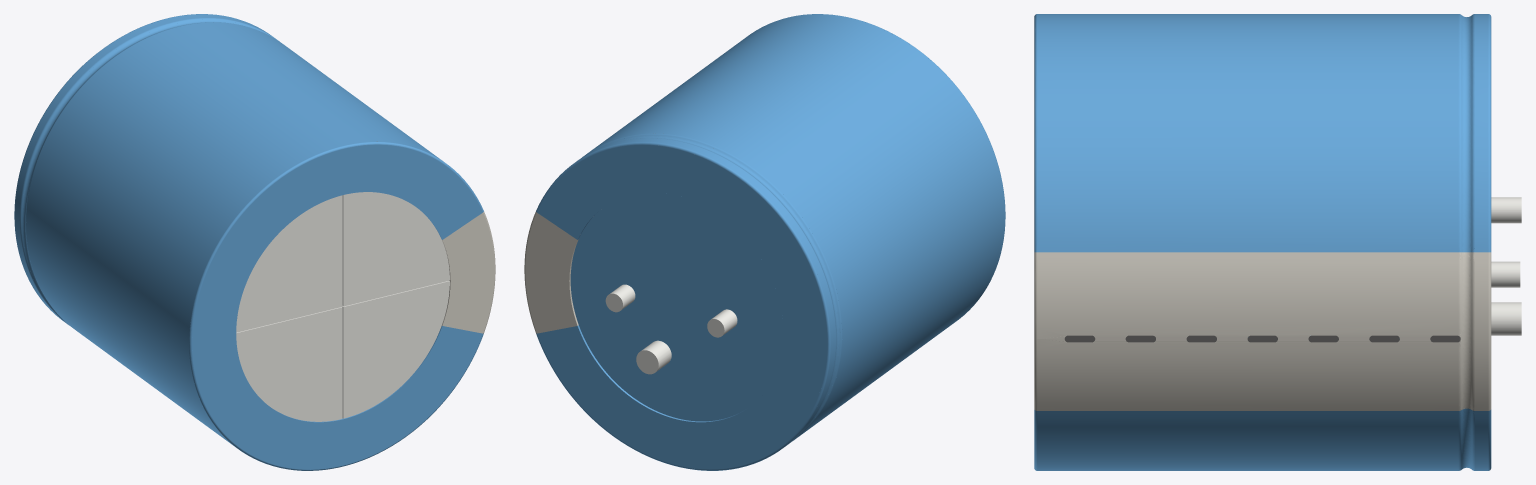
The model's file is CP_Radial_D30.0mm_P10.00mm_3pin_SnapIn.glb.
3 renders of one model, left to right at view 1: azimuth 30°, elevation 25°; view 2: azimuth 150°, elevation 25°; view 3: azimuth 270°, elevation 25°, orthographic. The views are drawn at different scales.
Parts seen in each view (by area): view 1: Shape_IndexedFaceSet.017, Shape_IndexedFaceSet.034, Shape_IndexedFaceSet.044, Shape_IndexedFaceSet.041, Shape_IndexedFaceSet.037, Shape_IndexedFaceSet.047, Shape_IndexedFaceSet.030, Shape_IndexedFaceSet.029, Shape_IndexedFaceSet.001, Shape_IndexedFaceSet.008, Shape_IndexedFaceSet.004; view 2: Shape_IndexedFaceSet.017, Shape_IndexedFaceSet.016, Shape_IndexedFaceSet.009, Shape_IndexedFaceSet.007, Shape_IndexedFaceSet.005, Shape_IndexedFaceSet.001, Shape_IndexedFaceSet.008, Shape_IndexedFaceSet.012; view 3: Shape_IndexedFaceSet.017, Shape_IndexedFaceSet.014, Shape_IndexedFaceSet.001, Shape_IndexedFaceSet.008, Shape_IndexedFaceSet, Shape_IndexedFaceSet.006, Shape_IndexedFaceSet.012, Shape_IndexedFaceSet.029, Shape_IndexedFaceSet.005, Shape_IndexedFaceSet.026, Shape_IndexedFaceSet.004, Shape_IndexedFaceSet.028 (+4 smaller).
Part boxes in pixels (left/top/right/bottom): Shape_IndexedFaceSet.017: left=26, top=22, right=442, bottom=444; Shape_IndexedFaceSet.034: left=192, top=145, right=482, bottom=469; Shape_IndexedFaceSet.044: left=236, top=307, right=342, bottom=421; Shape_IndexedFaceSet.041: left=343, top=281, right=449, bottom=418; Shape_IndexedFaceSet.037: left=343, top=192, right=449, bottom=305; Shape_IndexedFaceSet.047: left=236, top=195, right=342, bottom=331; Shape_IndexedFaceSet.030: left=442, top=213, right=494, bottom=333; Shape_IndexedFaceSet.029: left=189, top=142, right=483, bottom=470; Shape_IndexedFaceSet.001: left=14, top=14, right=272, bottom=321; Shape_IndexedFaceSet.008: left=22, top=19, right=261, bottom=312; Shape_IndexedFaceSet.004: left=19, top=18, right=279, bottom=325; Shape_IndexedFaceSet.017: left=590, top=14, right=1005, bottom=436; Shape_IndexedFaceSet.016: left=570, top=192, right=783, bottom=421; Shape_IndexedFaceSet.009: left=537, top=145, right=827, bottom=469; Shape_IndexedFaceSet.007: left=525, top=213, right=577, bottom=333; Shape_IndexedFaceSet.005: left=536, top=142, right=830, bottom=470; Shape_IndexedFaceSet.001: left=577, top=138, right=835, bottom=446; Shape_IndexedFaceSet.008: left=599, top=135, right=840, bottom=428; Shape_IndexedFaceSet.012: left=583, top=133, right=842, bottom=441; Shape_IndexedFaceSet.017: left=1037, top=14, right=1458, bottom=470; Shape_IndexedFaceSet.014: left=1037, top=252, right=1458, bottom=410; Shape_IndexedFaceSet.001: left=1475, top=14, right=1488, bottom=470; Shape_IndexedFaceSet.008: left=1462, top=15, right=1471, bottom=469; Shape_IndexedFaceSet: left=1475, top=252, right=1488, bottom=410; Shape_IndexedFaceSet.006: left=1462, top=252, right=1471, bottom=409; Shape_IndexedFaceSet.012: left=1458, top=14, right=1461, bottom=470; Shape_IndexedFaceSet.029: left=1034, top=14, right=1037, bottom=470; Shape_IndexedFaceSet.005: left=1488, top=14, right=1491, bottom=470; Shape_IndexedFaceSet.026: left=1491, top=302, right=1521, bottom=335; Shape_IndexedFaceSet.004: left=1472, top=14, right=1474, bottom=470; Shape_IndexedFaceSet.028: left=1491, top=197, right=1521, bottom=223.
Size of the model in its own units: 11.81 by 11.81 by 12.6.
